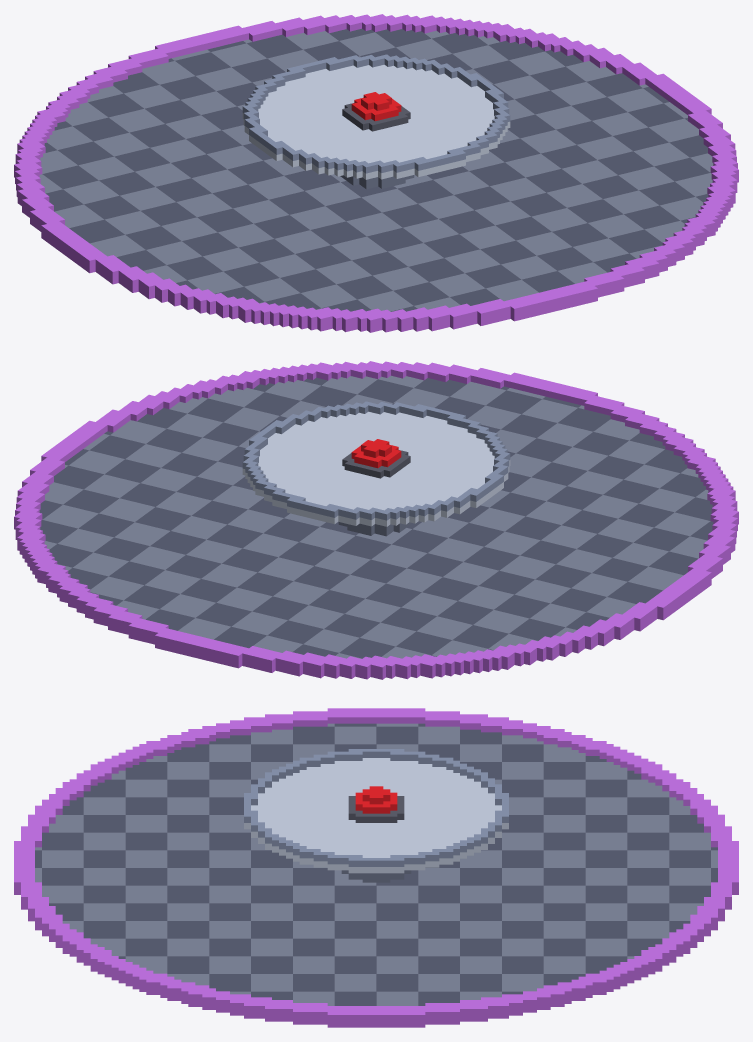
Rendered from mesa_junta.obj.
3 views of the same model, one above another, from view 1: azimuth 30°, elevation 25°; view 2: azimuth 150°, elevation 25°; view 3: azimuth 270°, elevation 25° (orthographic).
Visible parts, largest first — view 1: piso_oscuro, piso_claro, piso_orilla, mesa, mesa_borde, boton, boton_base, mesa_pata; view 2: piso_claro, piso_oscuro, piso_orilla, mesa, mesa_borde, boton, boton_base, mesa_pata; view 3: piso_oscuro, piso_claro, piso_orilla, mesa, mesa_borde, boton, boton_base, mesa_pata.
Part boxes in pixels (x1,y1,x2,y2): piso_oscuro: [42, 28, 710, 311]; piso_claro: [39, 30, 713, 311]; piso_orilla: [14, 14, 738, 332]; mesa: [242, 64, 510, 179]; mesa_borde: [242, 54, 510, 173]; boton: [351, 92, 401, 121]; boton_base: [342, 103, 410, 131]; mesa_pata: [340, 175, 414, 189]; piso_claro: [42, 375, 710, 658]; piso_oscuro: [39, 377, 713, 658]; piso_orilla: [14, 361, 738, 679]; mesa: [242, 411, 510, 526]; mesa_borde: [242, 401, 510, 520]; boton: [351, 439, 401, 468]; boton_base: [342, 450, 410, 478]; mesa_pata: [338, 522, 412, 536]; piso_oscuro: [35, 723, 717, 1005]; piso_claro: [35, 723, 717, 1005]; piso_orilla: [14, 708, 738, 1027]; mesa: [244, 758, 508, 873]; mesa_borde: [244, 749, 508, 866]; boton: [355, 786, 397, 813]; boton_base: [348, 796, 404, 822]; mesa_pata: [341, 870, 411, 882].
Bounding box in the file's own units: 5.2 × 0.65 × 5.2.
